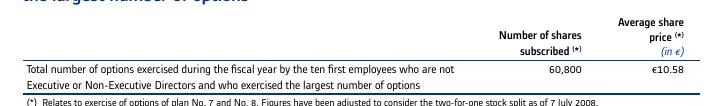table: (0, 0, 722, 106)
